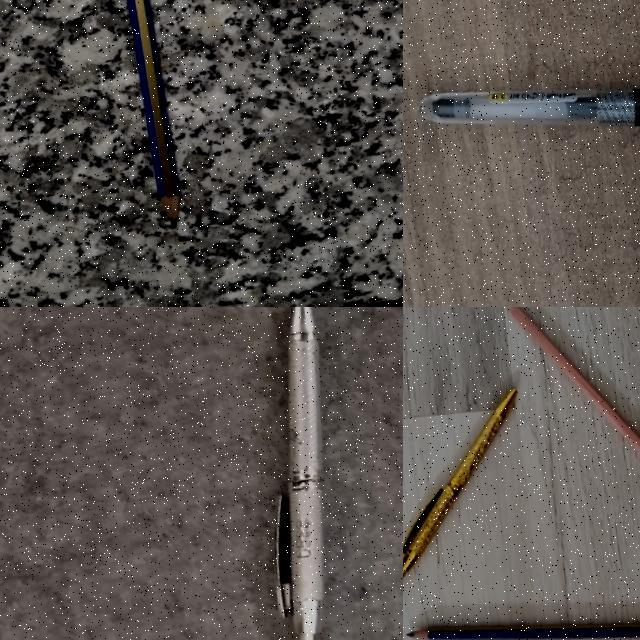pen: (420, 87, 639, 126)
pencil: (495, 307, 640, 533), (128, 0, 179, 222), (405, 595, 640, 640)
signature pen: (403, 390, 535, 583), (276, 307, 324, 639)
